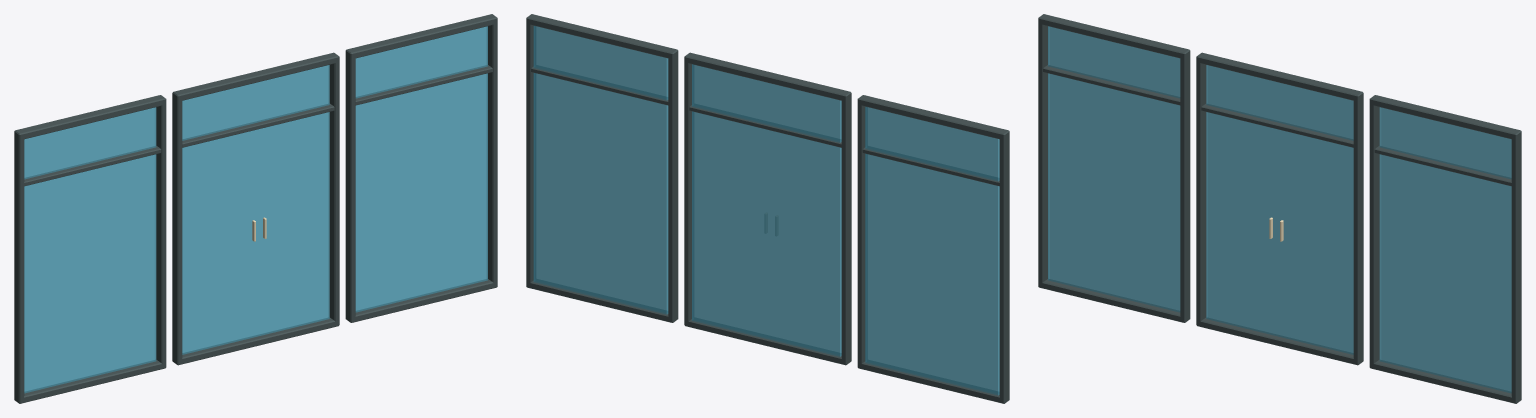
Rendered from HealingGlass.glb.
3 views of the same model, side by side, from view 1: azimuth 30°, elevation 25°; view 2: azimuth 150°, elevation 25°; view 3: azimuth 330°, elevation 25° (orthographic).
Visible parts, largest first — view 1: HealingGlass; view 2: HealingGlass; view 3: HealingGlass.
Boxes of the visible parts, bbox=[...] form: HealingGlass: bbox=[14, 14, 497, 403]; HealingGlass: bbox=[526, 14, 1009, 403]; HealingGlass: bbox=[1038, 14, 1521, 403].
Size of the model in its own units: 4.45 by 2.4 by 0.12.
